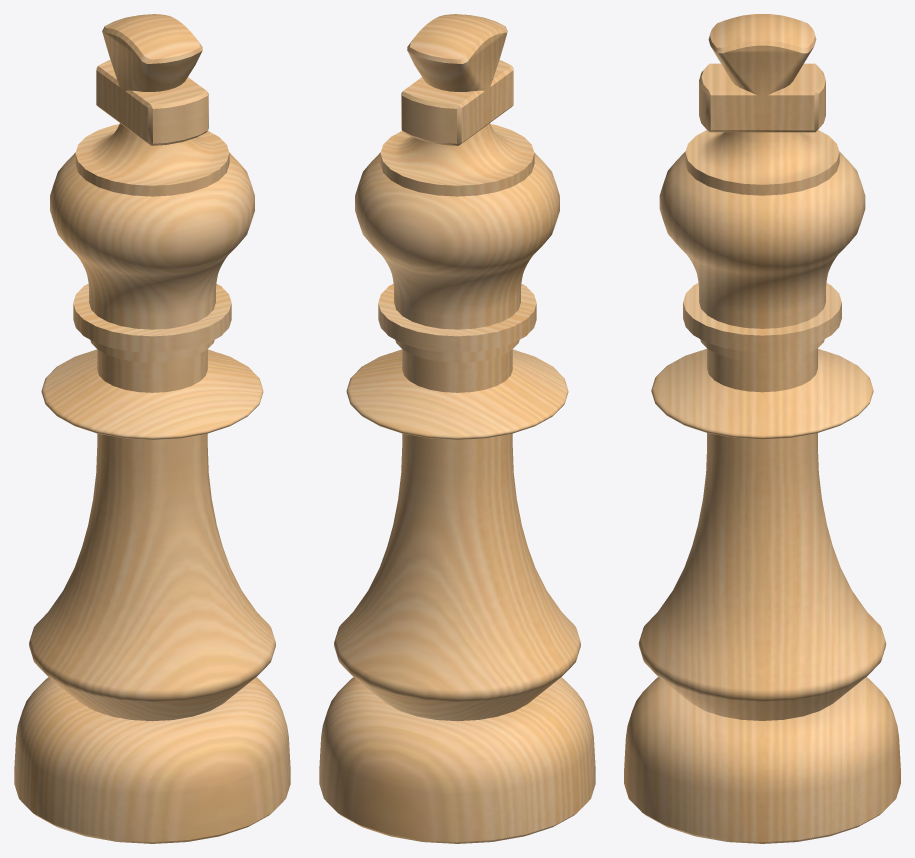
File: white_king.gltf
3 renders of one model, left to right at view 1: azimuth 30°, elevation 25°; view 2: azimuth 150°, elevation 25°; view 3: azimuth 270°, elevation 25°, orthographic.
Parts seen in each view (by area): view 1: Material2, Material2002, Material2001, Material2004, Material2003; view 2: Material2, Material2002, Material2001, Material2004, Material2003; view 3: Material2, Material2002, Material2001, Material2004, Material2003.
Part boxes in pixels (x1,y1,x2,y2): Material2: [14, 349, 290, 843]; Material2002: [50, 124, 254, 329]; Material2001: [89, 14, 215, 179]; Material2004: [73, 283, 231, 352]; Material2003: [90, 340, 214, 362]; Material2: [319, 349, 595, 843]; Material2002: [355, 124, 559, 329]; Material2001: [394, 14, 520, 179]; Material2004: [378, 283, 536, 352]; Material2003: [395, 340, 519, 362]; Material2: [624, 348, 900, 843]; Material2002: [659, 130, 865, 328]; Material2001: [699, 14, 825, 178]; Material2004: [683, 283, 841, 352]; Material2003: [700, 339, 824, 362].
Size of the model in its own units: 0.2097 by 0.6379 by 0.2097.
1 material, 1 textured.
